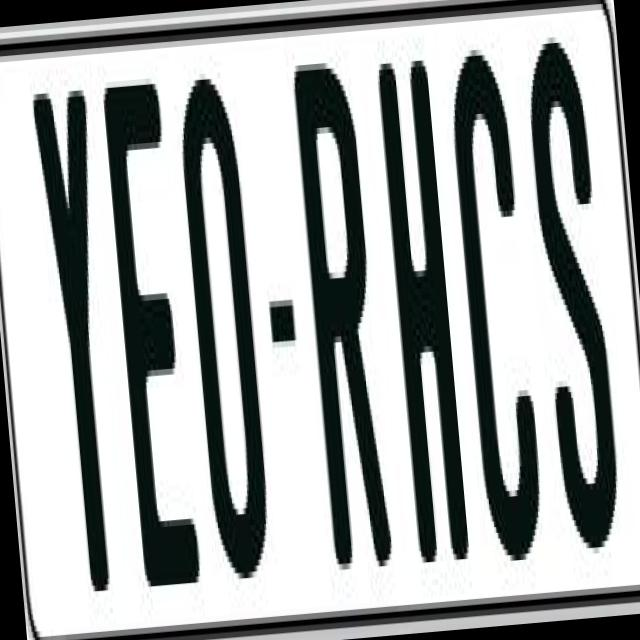0: (171, 59, 272, 586)
C: (444, 53, 544, 580)
E: (100, 66, 206, 574)
H: (370, 48, 466, 574)
R: (290, 66, 392, 570)
S: (520, 34, 624, 562)
Y: (26, 72, 130, 581)
